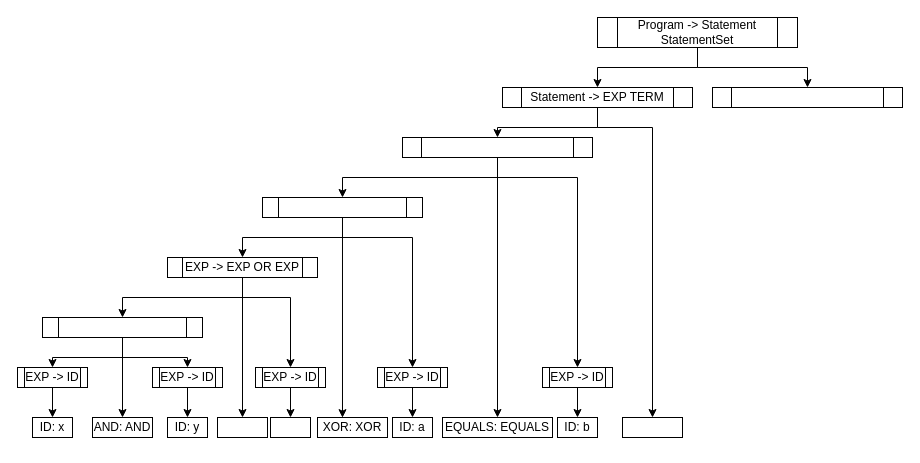
The diagram is 920 pixels wide and 463 high, and some of its shapes have lost their labels. Each missing label, with the centre of its shape:
"EXP -> EXP AND EXP" belongs at (122,327).
"EXP -> EXP EQUALS EXP" belongs at (497,147).
"EXP -> EXP XOR EXP" belongs at (342,207).
"ID: z" belongs at (290,427).
"OR: OR" belongs at (242,427).
"StatementSet ->" belongs at (807,97).
"TERM: ;" belongs at (652,427).
